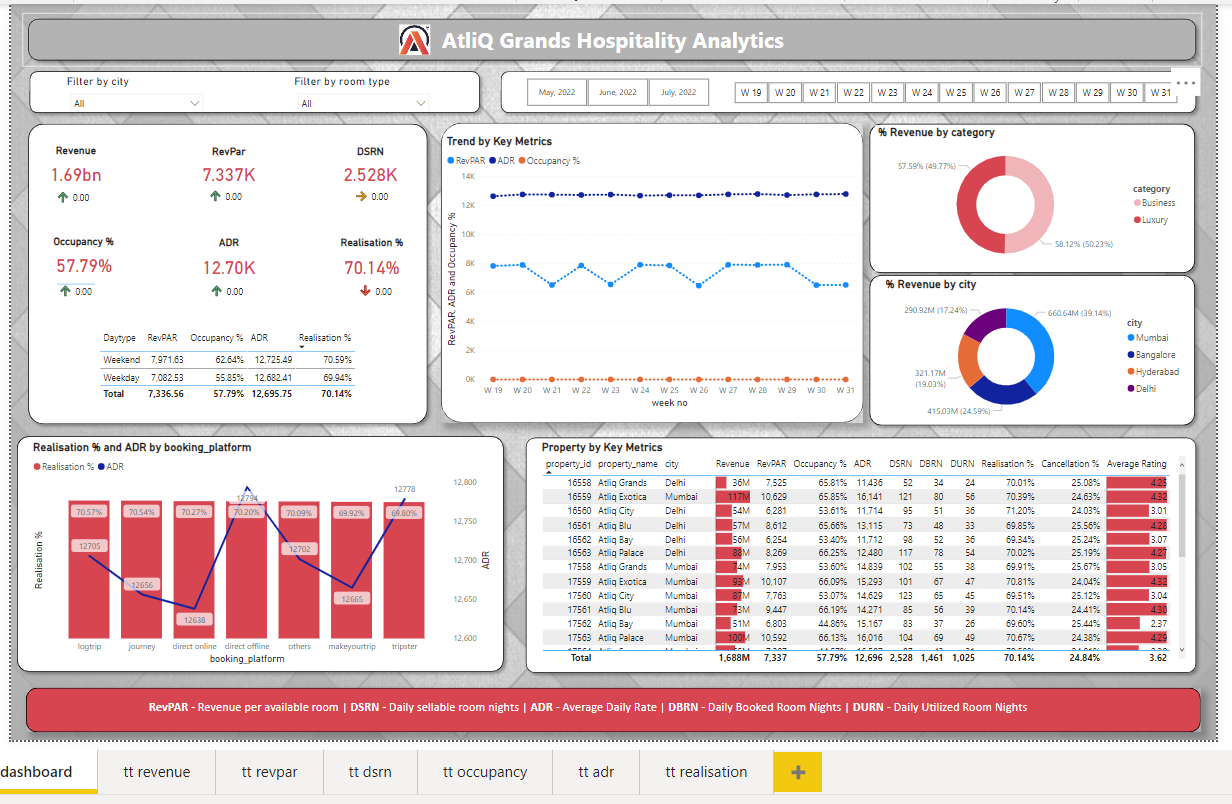

The dashboard page shown, as its layout file describes it:
{"tool":"powerbi","page":{"name":"dashboard","canvas":[1800,1100],"ordinal":0},"visuals":[{"type":"shape","box":[642.4,177.4,631.2,448.2],"z":0},{"type":"shape","box":[18.2,91.6,691,80.3],"z":1000},{"type":"shape","box":[16.8,169.9,614.4,466.9],"z":2000},{"type":"shape","box":[722.8,91.1,1057,80.3],"z":3000},{"type":"slicer","title":"Filter by city","fields":{"Values":["DIM_HOTEL.city"]},"box":[78,104.6,218.5,54.2],"z":4000},{"type":"slicer","title":"Filter by room type","fields":{"Values":["DIM_ROOM.room_class"]},"box":[417.9,104.6,216.6,54.2],"z":5000},{"type":"slicer","fields":{"Values":["DIM_DATE.mmm yy"]},"box":[745.2,104.2,321.2,54.2],"z":6000},{"type":"slicer","fields":{"Values":["DIM_DATE.week no"]},"box":[1055.2,109.8,711.5,44.8],"z":7000},{"type":"tableEx","fields":{"Values":["DIM_DATE.Daytype","key_measures.RevPAR","key_measures.Occupancy %","key_measures.ADR","key_measures.Realisation %"]},"box":[127,481.8,416.5,127],"z":8000},{"type":"shape","box":[0,636.8,745.2,369.8],"z":9000},{"type":"lineStackedColumnComboChart","fields":{"Category":["FACT_BOOKING.booking_platform"],"Y":["key_measures.Realisation %"],"Y2":["key_measures.ADR"]},"box":[28,651.8,694.7,339.9],"z":10000},{"type":"shape","box":[760.1,638.7,1019.7,369.8],"z":11000},{"type":"tableEx","title":"Property by Key Metrics","fields":{"Values":["DIM_HOTEL.property_id","DIM_HOTEL.property_name","DIM_HOTEL.city","key_measures.Revenue","key_measures.RevPAR","key_measures.Occupancy %","key_measures.ADR","key_measures.DSRN","key_measures.DBRN","key_measures.DURN","key_measures.Realisation %","key_measures.Cancellation %"]},"box":[788.1,651.8,971.1,339.9],"z":12000},{"type":"shape","box":[1273.7,169.9,504.2,240.9],"z":13000},{"type":"donutChart","title":"% Revenue by category","fields":{"Category":["DIM_HOTEL.category"],"Y":["key_measures.Occupancy %"]},"box":[1290.5,181.2,465,218.5],"z":14000},{"type":"shape","box":[1273.7,395.9,504.2,242.8],"z":15000},{"type":"lineChart","title":"Trend by Key Metrics","fields":{"Y":["key_measures.RevPAR","key_measures.ADR","key_measures.Occupancy %"],"Category":["DIM_DATE.week no","DIM_DATE.mmm yy.Variation.Date Hierarchy.Month"]},"box":[646.2,194.2,623.8,414.6],"z":16000},{"type":"tableEx","fields":{"Values":["key_measures.Occupancy WoW change %"]},"box":[62.4,384.2,76.8,65],"z":17000},{"type":"tableEx","fields":{"Values":["key_measures.ADR WoW change %"]},"box":[287.1,385.3,79,66.1],"z":18000},{"type":"tableEx","fields":{"Values":["key_measures.Realisation WoW change %"]},"box":[510.4,384,79,66.1],"z":19000},{"type":"tableEx","fields":{"Values":["key_measures.Revenue WoW change %"]},"box":[58.4,244.6,80.7,65],"z":20000},{"type":"card","title":"Revenue","fields":{"Values":["key_measures.Revenue"]},"box":[46.6,209.2,100.4,70.9],"z":21000},{"type":"card","title":"Occupancy %","fields":{"Values":["key_measures.Occupancy %"]},"box":[38.7,346,138.9,70.4],"z":22000},{"type":"card","title":"ADR","fields":{"Values":["key_measures.ADR"]},"box":[263.7,347.7,124.1,72.9],"z":23000},{"type":"tableEx","fields":{"Values":["key_measures.Revpar WoW change %"]},"box":[285.7,242.5,78.8,65],"z":24000},{"type":"card","title":"Realisation %","fields":{"Values":["key_measures.Realisation %"]},"box":[478.8,348,122.1,72.9],"z":25000},{"type":"tableEx","fields":{"Values":["key_measures.DSRN WoW change %"]},"box":[504.3,248.4,78.8,65],"z":26000},{"type":"card","title":"RevPar","fields":{"Values":["key_measures.RevPAR"]},"box":[263.1,211,124.1,67],"z":27000},{"type":"card","title":"DSRN","fields":{"Values":["key_measures.DSRN"]},"box":[482.7,211,110.3,67],"z":28000},{"type":"shape","box":[17.6,13.7,1762.8,80.2],"z":29000},{"type":"shape","box":[21.5,1021.3,1755,66.5],"z":30000},{"type":"textbox","box":[196,1035,1332.4,56],"z":31000},{"type":"textbox","box":[372,27,1055.2,52.3],"z":32000},{"type":"image","box":[575.2,13.1,56,80.3],"z":33000},{"type":"donutChart","title":"% Revenue by city","fields":{"Category":["DIM_HOTEL.city"],"Y":["key_measures.Revenue"]},"box":[1301.7,409,457.6,216.6],"z":34000}]}

Visuals, with their boxes on the page's 1800x1100 design canvas (x1, y1, x2, y2). These are canvas units, not pixel positions in the 1232x804 screenshot, which may show the page scaled, cropped or inside an application window:
shape: bbox=[642, 177, 1274, 626]
shape: bbox=[18, 92, 709, 172]
shape: bbox=[17, 170, 631, 637]
shape: bbox=[723, 91, 1780, 171]
"Filter by city" slicer: bbox=[78, 105, 296, 159]
"Filter by room type" slicer: bbox=[418, 105, 634, 159]
slicer - DIM_DATE.mmm yy: bbox=[745, 104, 1066, 158]
slicer - DIM_DATE.week no: bbox=[1055, 110, 1767, 155]
tableEx - DIM_DATE.Daytype x key_measures.RevPAR: bbox=[127, 482, 544, 609]
shape: bbox=[0, 637, 745, 1007]
lineStackedColumnComboChart - FACT_BOOKING.booking_platform x key_measures.Realisation %: bbox=[28, 652, 723, 992]
shape: bbox=[760, 639, 1780, 1008]
"Property by Key Metrics" tableEx: bbox=[788, 652, 1759, 992]
shape: bbox=[1274, 170, 1778, 411]
"% Revenue by category" donutChart: bbox=[1290, 181, 1756, 400]
shape: bbox=[1274, 396, 1778, 639]
"Trend by Key Metrics" lineChart: bbox=[646, 194, 1270, 609]
tableEx - key_measures.Occupancy WoW change %: bbox=[62, 384, 139, 449]
tableEx - key_measures.ADR WoW change %: bbox=[287, 385, 366, 451]
tableEx - key_measures.Realisation WoW change %: bbox=[510, 384, 589, 450]
tableEx - key_measures.Revenue WoW change %: bbox=[58, 245, 139, 310]
"Revenue" card: bbox=[47, 209, 147, 280]
"Occupancy %" card: bbox=[39, 346, 178, 416]
"ADR" card: bbox=[264, 348, 388, 421]
tableEx - key_measures.Revpar WoW change %: bbox=[286, 242, 364, 308]
"Realisation %" card: bbox=[479, 348, 601, 421]
tableEx - key_measures.DSRN WoW change %: bbox=[504, 248, 583, 313]
"RevPar" card: bbox=[263, 211, 387, 278]
"DSRN" card: bbox=[483, 211, 593, 278]
shape: bbox=[18, 14, 1780, 94]
shape: bbox=[22, 1021, 1776, 1088]
textbox: bbox=[196, 1035, 1528, 1091]
textbox: bbox=[372, 27, 1427, 79]
image: bbox=[575, 13, 631, 93]
"% Revenue by city" donutChart: bbox=[1302, 409, 1759, 626]
